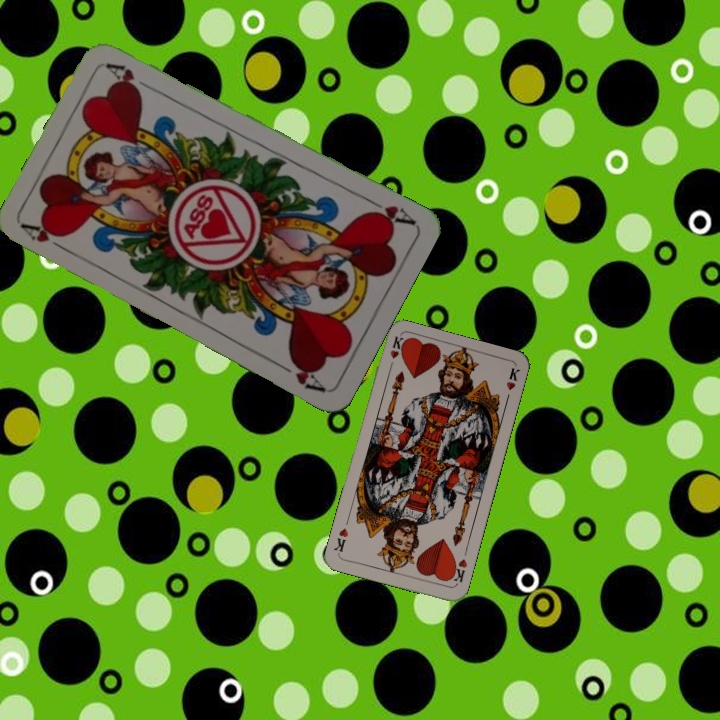HA: (18, 220, 73, 256), (362, 193, 417, 228)
HK: (385, 333, 406, 373), (446, 555, 470, 587)
